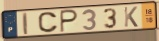3: (81, 8, 97, 32), (102, 7, 118, 30)
C: (37, 11, 60, 34)
I: (21, 12, 29, 36)
K: (123, 6, 139, 28)
P: (59, 9, 79, 34)
